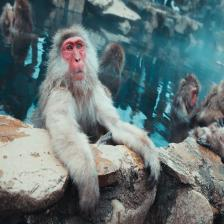monkey: (38, 23, 167, 201), (168, 68, 208, 130), (2, 1, 40, 38)
